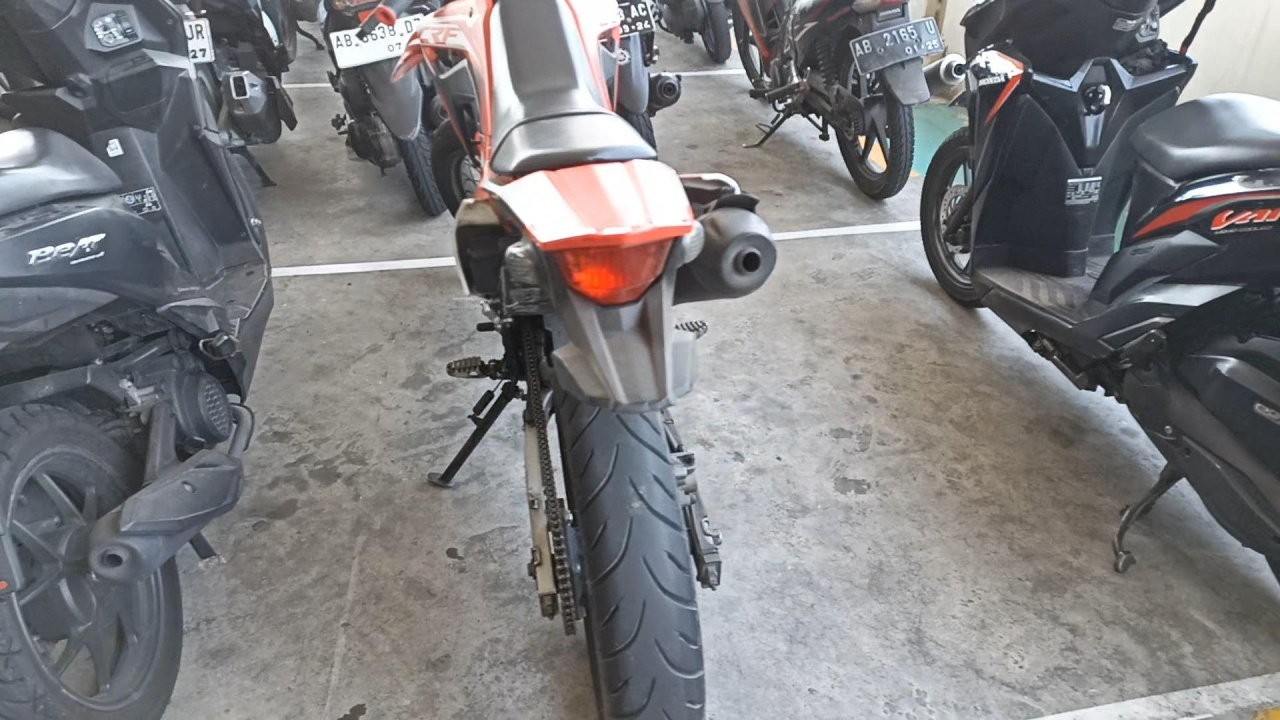plate: (851, 17, 945, 75)
